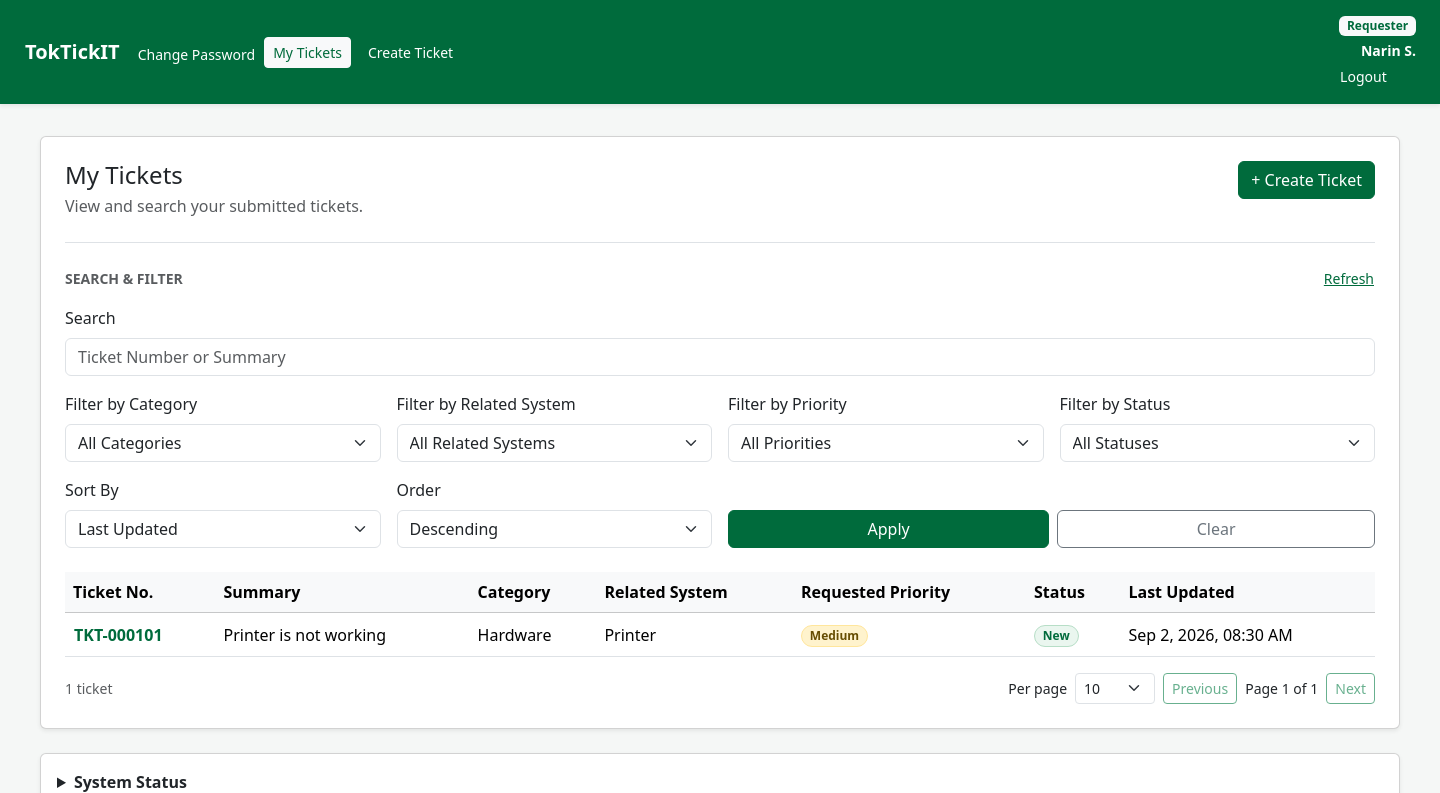
Test: Requester Ticket Detail › returns from Ticket Detail to My Tickets
Expected: the heading "My Tickets" is shown, [65,158,183,191]
Click the button with aria-label "View TKT-000101". click: click(118, 635)
box: [73,622,164,648]
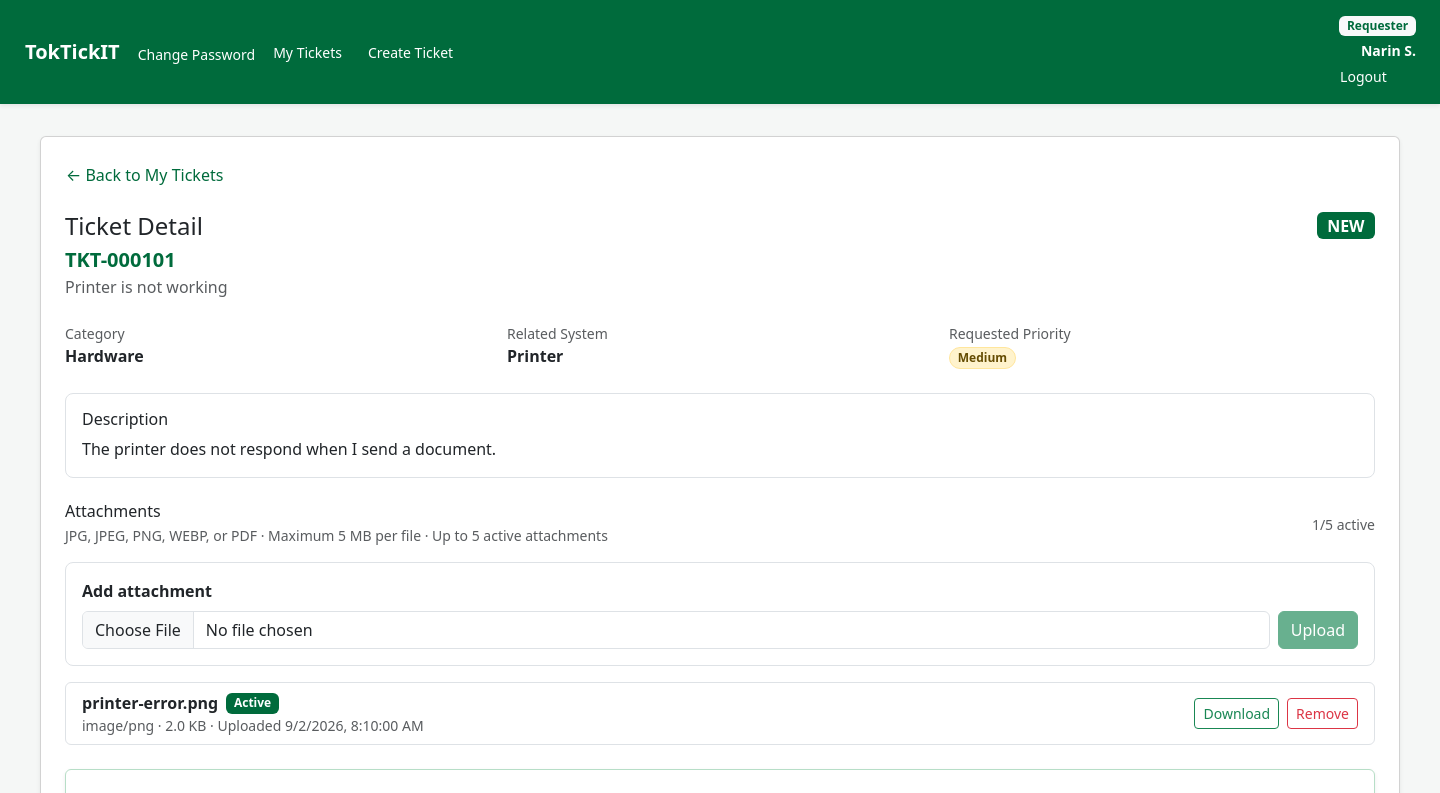
Now the heading "Ticket Detail" is shown, box [65,209,203,242]
Click the button "← Back to My Tickets". click: click(145, 175)
box: [65,162,224,188]
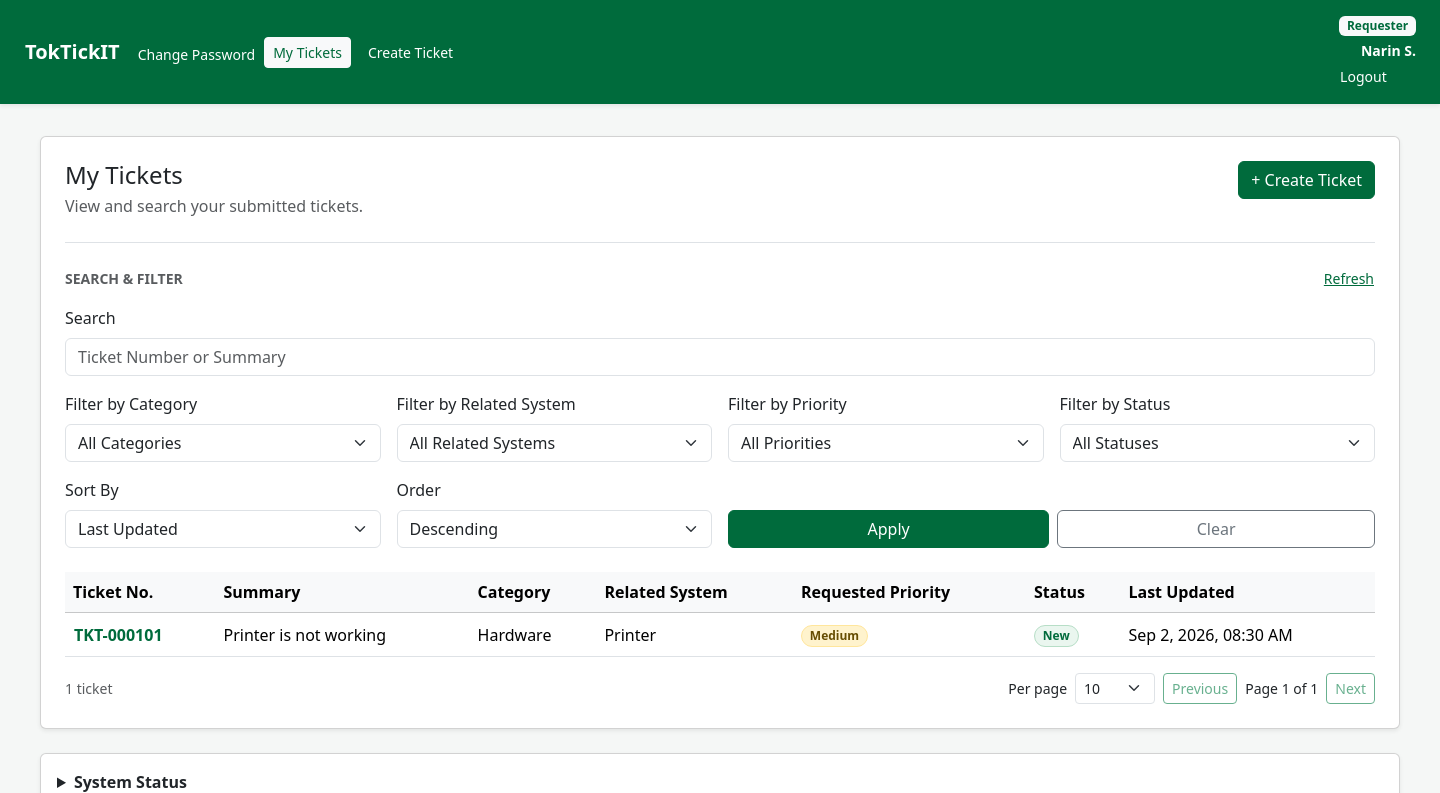
Now the heading "Ticket Detail" is gone
Now the heading "My Tickets" is shown, box [65,158,183,191]
